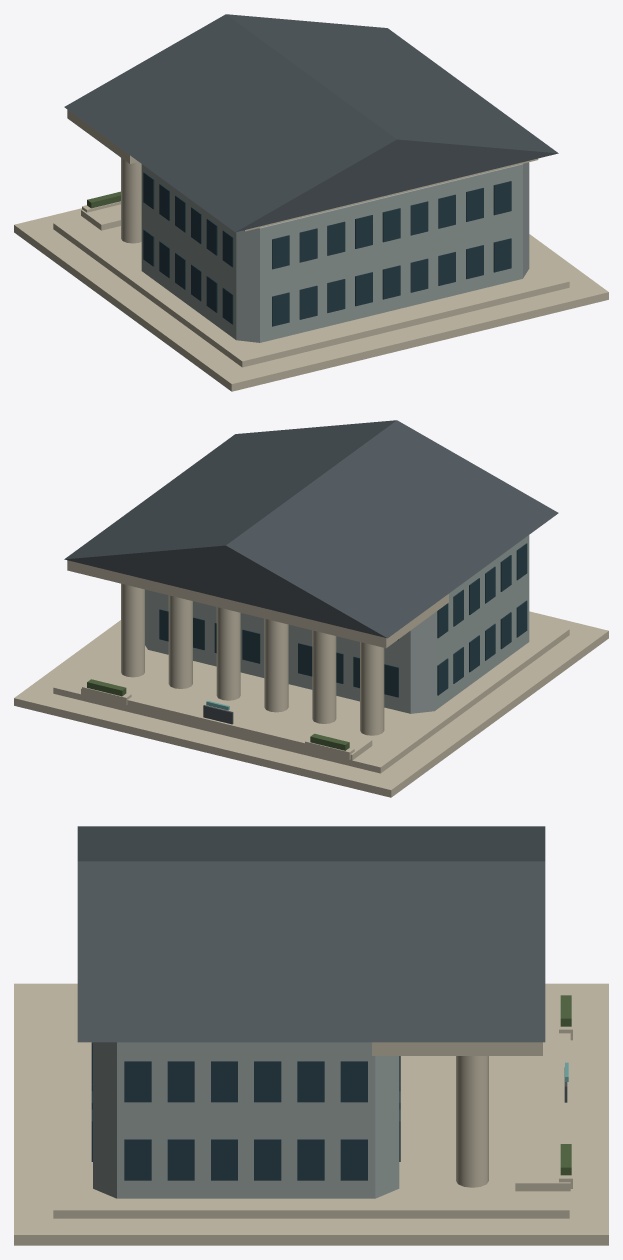
File: civic.glb
3 views of the same model, one above another, from view 1: azimuth 30°, elevation 25°; view 2: azimuth 150°, elevation 25°; view 3: azimuth 270°, elevation 25° (orthographic). The views are drawn at different scales.
Visible parts, largest first — view 1: civic-pediment, civic-hall, foundation, windows, plinth, civic-colonnade, civic-steps, roof-slabs, portico-entablature; view 2: civic-pediment, foundation, civic-hall, plinth, civic-colonnade, windows, civic-steps, portico-entablature, planters, planting; view 3: civic-pediment, foundation, civic-hall, plinth, windows, civic-steps, civic-colonnade, portico-entablature, planting.
Part boxes in pixels (left/top/right/bottom): civic-pediment: left=64, top=14, right=558, bottom=232; civic-hall: left=141, top=162, right=529, bottom=342; foundation: left=14, top=208, right=608, bottom=391; windows: left=143, top=172, right=511, bottom=326; plinth: left=53, top=216, right=569, bottom=367; civic-colonnade: left=121, top=158, right=141, bottom=243; civic-steps: left=81, top=204, right=120, bottom=230; roof-slabs: left=243, top=158, right=538, bottom=231; portico-entablature: left=67, top=110, right=138, bottom=163; civic-pediment: left=64, top=420, right=558, bottom=638; foundation: left=14, top=611, right=608, bottom=797; civic-hall: left=145, top=535, right=529, bottom=713; plinth: left=53, top=619, right=569, bottom=773; civic-colonnade: left=121, top=583, right=384, bottom=735; windows: left=159, top=543, right=527, bottom=697; civic-steps: left=81, top=674, right=372, bottom=760; portico-entablature: left=67, top=560, right=448, bottom=648; planters: left=82, top=683, right=354, bottom=759; planting: left=87, top=679, right=349, bottom=750; civic-pediment: left=77, top=826, right=545, bottom=1042; foundation: left=14, top=983, right=608, bottom=1245; civic-hall: left=93, top=1042, right=399, bottom=1198; plinth: left=53, top=992, right=569, bottom=1218; windows: left=91, top=1042, right=400, bottom=1180; civic-steps: left=515, top=1002, right=570, bottom=1191; civic-colonnade: left=456, top=1056, right=488, bottom=1187; portico-entablature: left=372, top=1042, right=542, bottom=1055; planting: left=560, top=995, right=571, bottom=1175.
Size of the model in its own units: 15.52 by 7.44 by 15.52.
